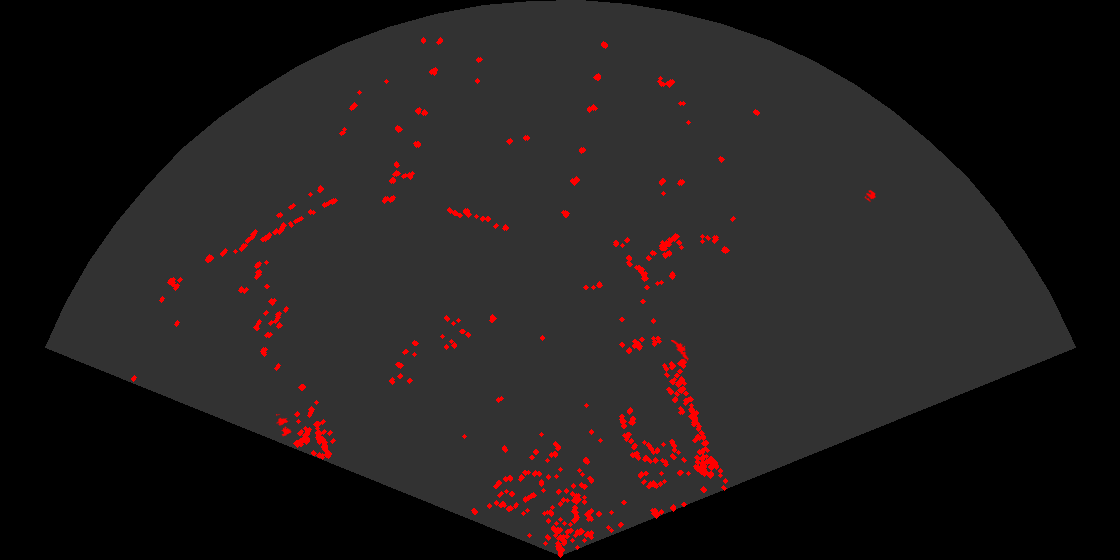ball: (863, 188, 878, 204)
cage: (276, 414, 293, 438)
frogman: (671, 340, 691, 362)
